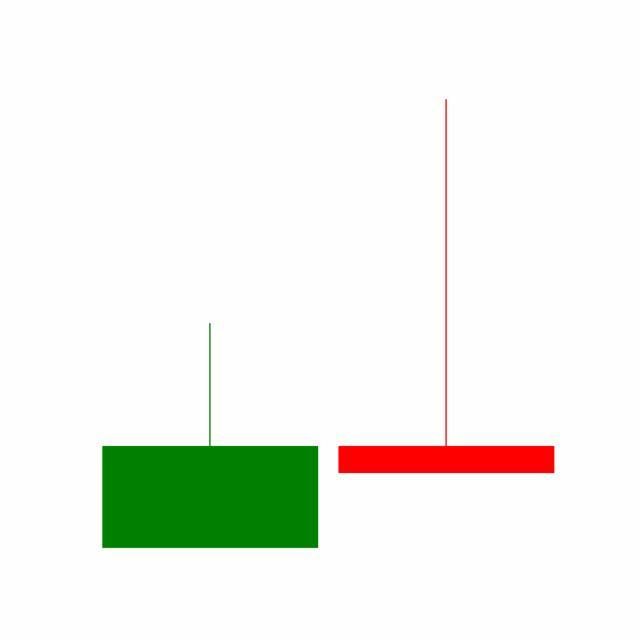Gravestone Doji: (328, 95, 566, 477)
